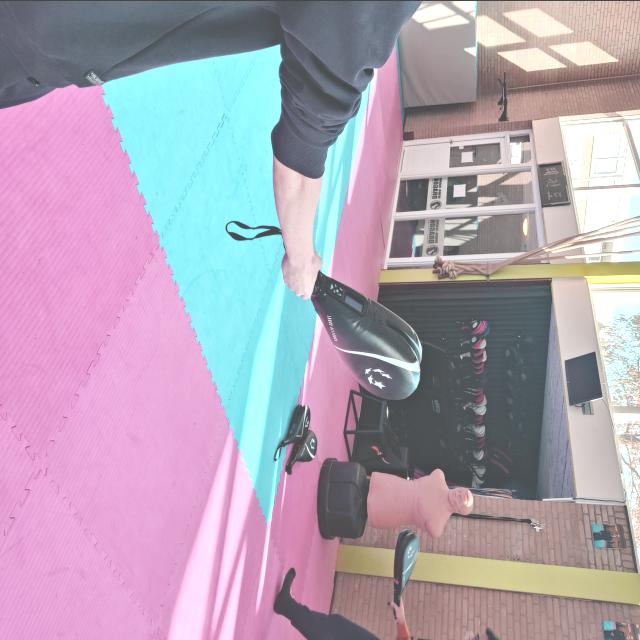paddle: (311, 270, 427, 402), (393, 526, 422, 608), (280, 402, 312, 446), (289, 429, 318, 468)
